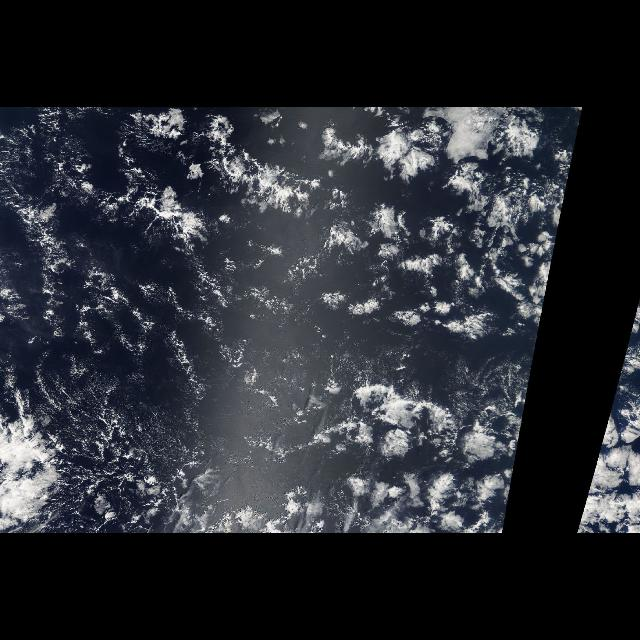Flower: (133, 110, 513, 530)
Gravel: (4, 112, 242, 344), (45, 398, 188, 528)
Sugar: (16, 358, 218, 524)
